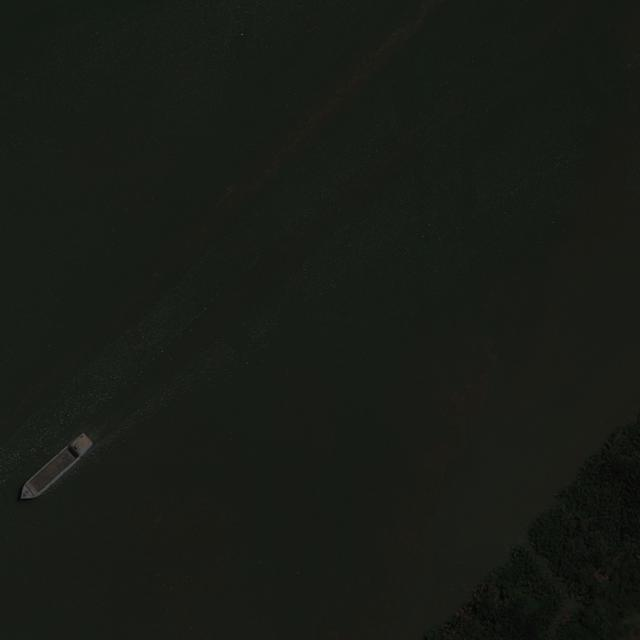Container Ship: (13, 429, 97, 508)
